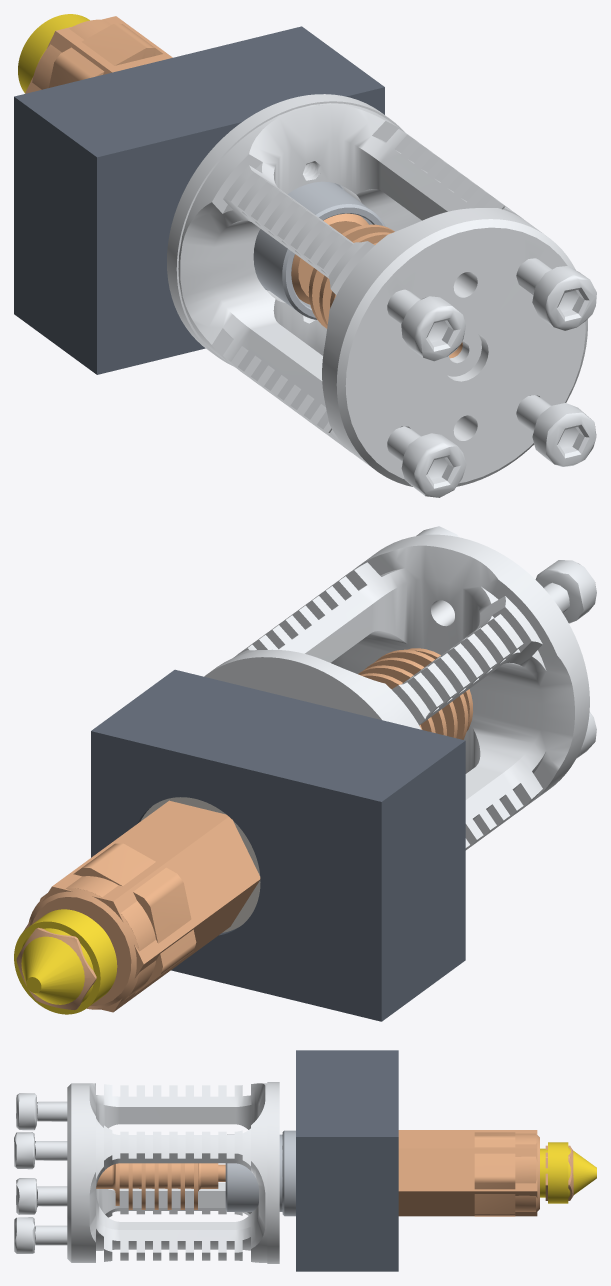
The picture shows the model from 3 angles, top to bottom: view 1: azimuth 30°, elevation 25°; view 2: azimuth 150°, elevation 25°; view 3: azimuth 270°, elevation 25°; orthographic projection. The views are drawn at different scales.
Parts seen in each view (by area): view 1: dragon_uhf_heatsink_19, dragon_uhf_silicone_sock, dragon_uhf_heatbreak_12, dragon_uhf_extender_15, dragon_uhf_m25_screw_5, dragon_uhf_m25_screw_18, dragon_uhf_m25_screw_11, dragon_uhf_m25_screw_17, dragon_uhf_heatbreak_8, dragon_uhf_extender_sleeve, dragon_uhf_v6_nozzle; view 2: dragon_uhf_silicone_sock, dragon_uhf_heatsink_19, dragon_uhf_extender_sleeve, dragon_uhf_extender_15, dragon_uhf_v6_nozzle, dragon_uhf_heatbreak_8, dragon_uhf_m25_screw_17, dragon_uhf_copper_block, dragon_uhf_extender_16; view 3: dragon_uhf_heatsink_19, dragon_uhf_silicone_sock, dragon_uhf_extender_sleeve, dragon_uhf_extender_15, dragon_uhf_heatbreak_8, dragon_uhf_heatbreak_12, dragon_uhf_v6_nozzle, dragon_uhf_m25_screw_18, dragon_uhf_m25_screw_5, dragon_uhf_m25_screw_17, dragon_uhf_m25_screw_11, dragon_uhf_extender_16.
Boxes of the visible parts, left/top/right/bottom form: dragon_uhf_heatsink_19: left=167, top=94, right=587, bottom=486; dragon_uhf_silicone_sock: left=14, top=26, right=384, bottom=374; dragon_uhf_heatbreak_12: left=253, top=181, right=385, bottom=319; dragon_uhf_extender_15: left=32, top=19, right=162, bottom=89; dragon_uhf_m25_screw_5: left=516, top=258, right=596, bottom=330; dragon_uhf_m25_screw_18: left=516, top=395, right=596, bottom=466; dragon_uhf_m25_screw_11: left=387, top=426, right=466, bottom=497; dragon_uhf_m25_screw_17: left=387, top=289, right=465, bottom=361; dragon_uhf_heatbreak_8: left=291, top=213, right=462, bottom=358; dragon_uhf_extender_sleeve: left=25, top=16, right=172, bottom=93; dragon_uhf_v6_nozzle: left=18, top=14, right=89, bottom=92; dragon_uhf_silicone_sock: left=91, top=669, right=465, bottom=1021; dragon_uhf_heatsink_19: left=204, top=534, right=589, bottom=850; dragon_uhf_extender_sleeve: left=23, top=800, right=260, bottom=1012; dragon_uhf_extender_15: left=28, top=843, right=196, bottom=1009; dragon_uhf_v6_nozzle: left=14, top=909, right=117, bottom=1014; dragon_uhf_heatbreak_8: left=358, top=648, right=473, bottom=739; dragon_uhf_m25_screw_17: left=535, top=560, right=596, bottom=623; dragon_uhf_copper_block: left=141, top=797, right=260, bottom=932; dragon_uhf_extender_16: left=16, top=927, right=96, bottom=1010; dragon_uhf_heatsink_19: left=67, top=1082, right=279, bottom=1263; dragon_uhf_silicone_sock: left=296, top=1050, right=398, bottom=1271; dragon_uhf_extender_sleeve: left=398, top=1130, right=537, bottom=1216; dragon_uhf_extender_15: left=474, top=1132, right=539, bottom=1216; dragon_uhf_heatbreak_8: left=96, top=1163, right=225, bottom=1209; dragon_uhf_heatbreak_12: left=225, top=1130, right=295, bottom=1216; dragon_uhf_v6_nozzle: left=540, top=1142, right=596, bottom=1203; dragon_uhf_m25_screw_18: left=14, top=1217, right=67, bottom=1253; dragon_uhf_m25_screw_5: left=14, top=1132, right=67, bottom=1169; dragon_uhf_m25_screw_17: left=16, top=1093, right=67, bottom=1130; dragon_uhf_m25_screw_11: left=16, top=1178, right=67, bottom=1214; dragon_uhf_extender_16: left=545, top=1145, right=573, bottom=1200.
Size of the model in its own units: 0.0273 by 0.0223 by 0.0714.
